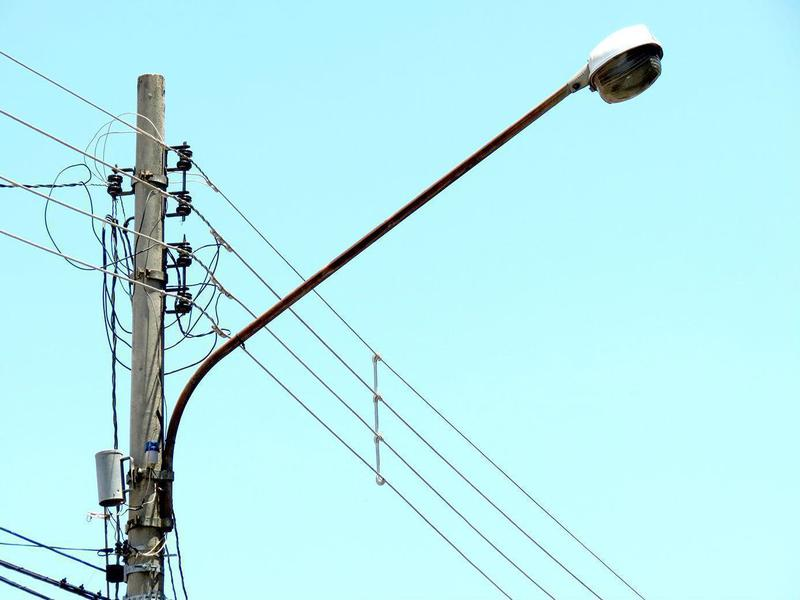IP: (308, 9, 668, 286)
